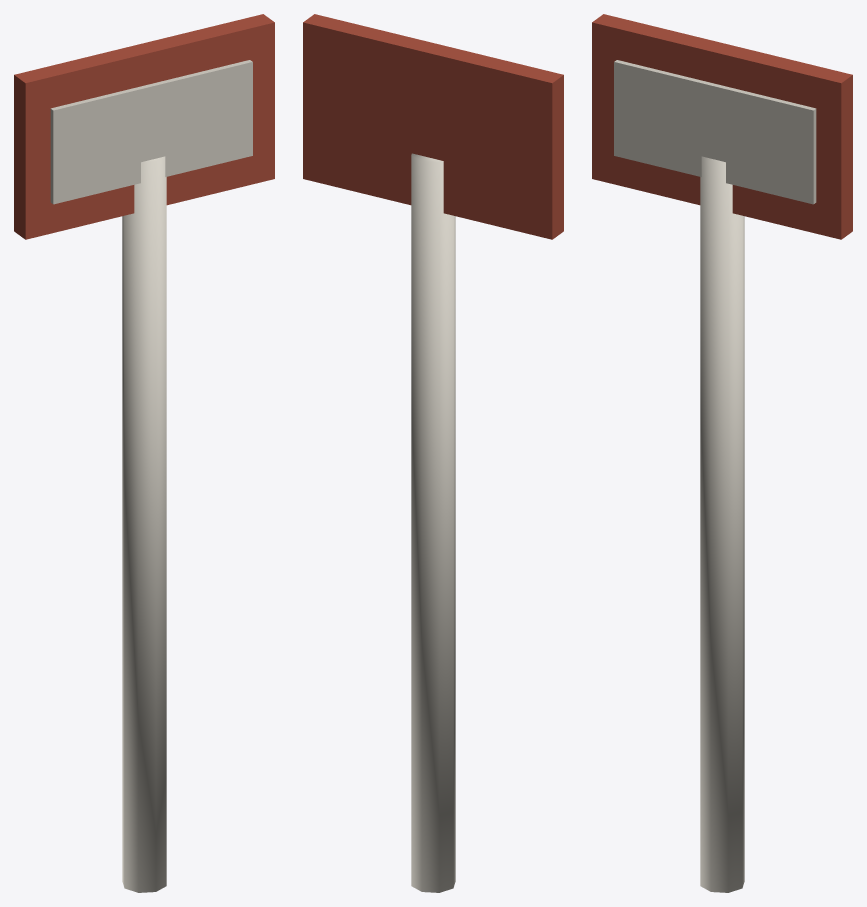
File: start_gate.glb
3 views of the same model, side by side, from view 1: azimuth 30°, elevation 25°; view 2: azimuth 150°, elevation 25°; view 3: azimuth 330°, elevation 25° (orthographic).
Visible parts, largest first — view 1: start_gate; view 2: start_gate; view 3: start_gate.
Part boxes in pixels (bbox=[...]): start_gate: bbox=[14, 14, 274, 892]; start_gate: bbox=[303, 14, 563, 892]; start_gate: bbox=[592, 14, 852, 892].
Size of the model in its own units: 0.5001 by 1.6 by 0.0801.
